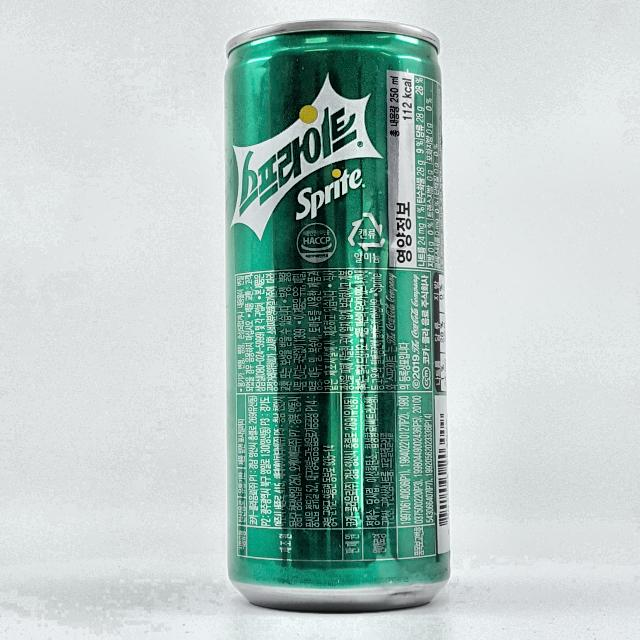sprite: (225, 20, 450, 611)
